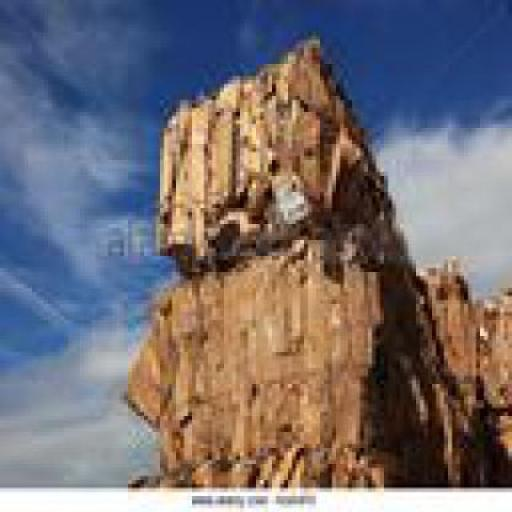cardboard: (124, 228, 420, 448), (156, 36, 384, 256), (416, 256, 473, 396), (128, 456, 400, 484), (404, 380, 476, 480), (476, 284, 508, 400), (480, 396, 508, 484)
